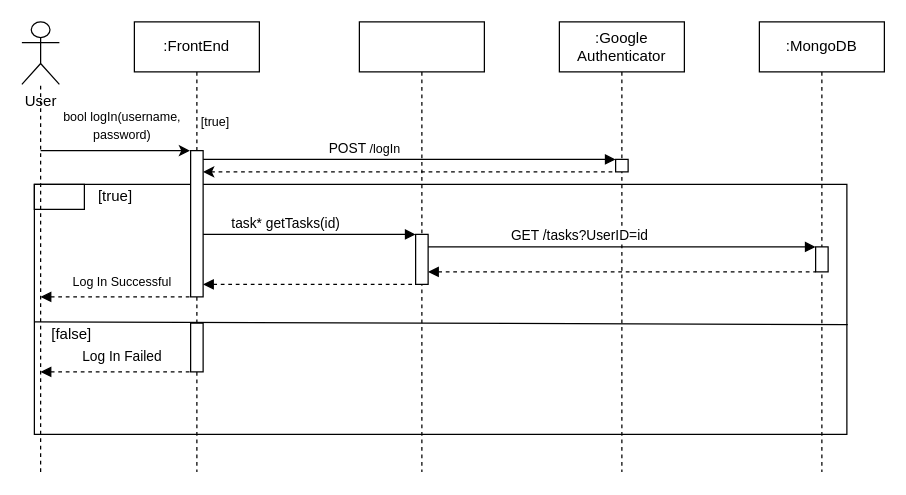
The diagram is 906 pixels wide and 495 high, and some of its shapes have lost their labels. Each missing label, with the centre of its shape:
:User: (421,246)
alt: (58,196)
